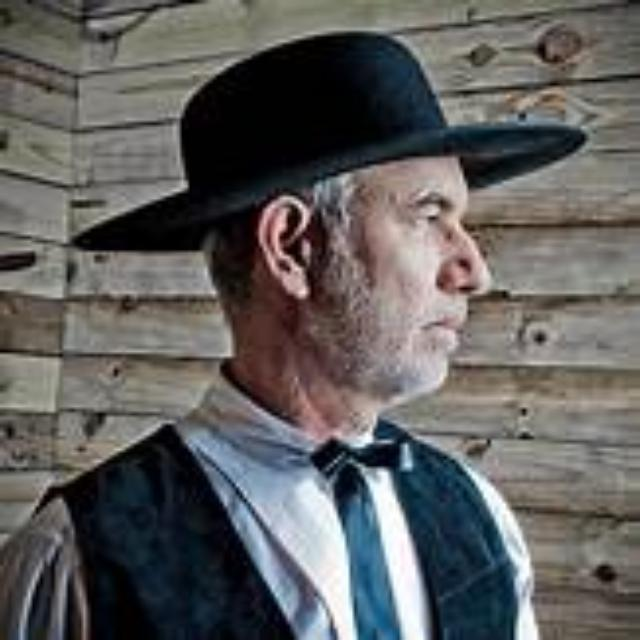person: (45, 45, 557, 640)
